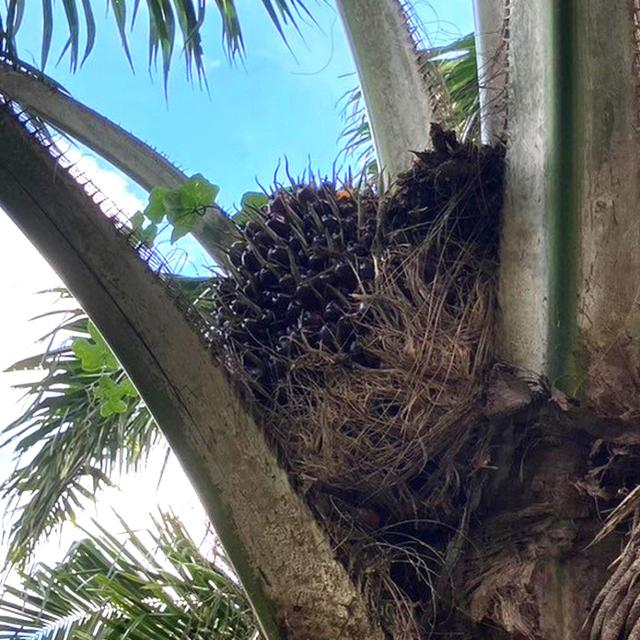ripe: (210, 175, 408, 432)
